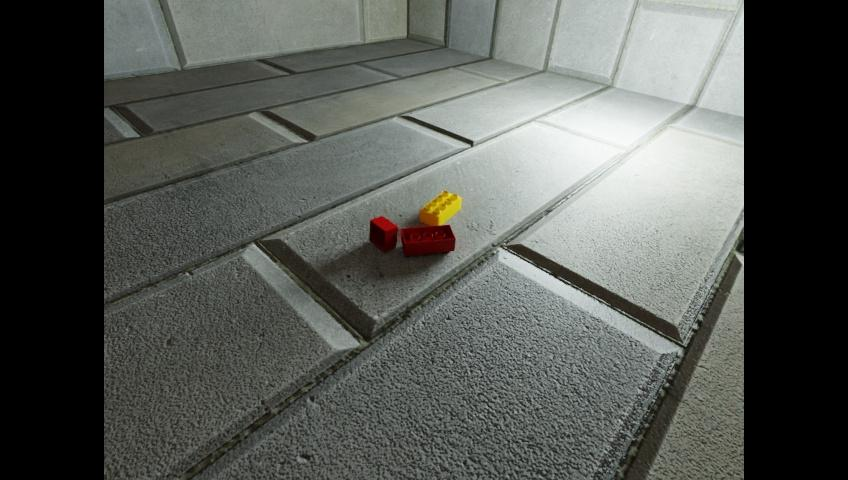2x2_red: (369, 215, 397, 251)
4x2_red: (401, 224, 454, 255)
4x2_yellow: (419, 190, 462, 226)
